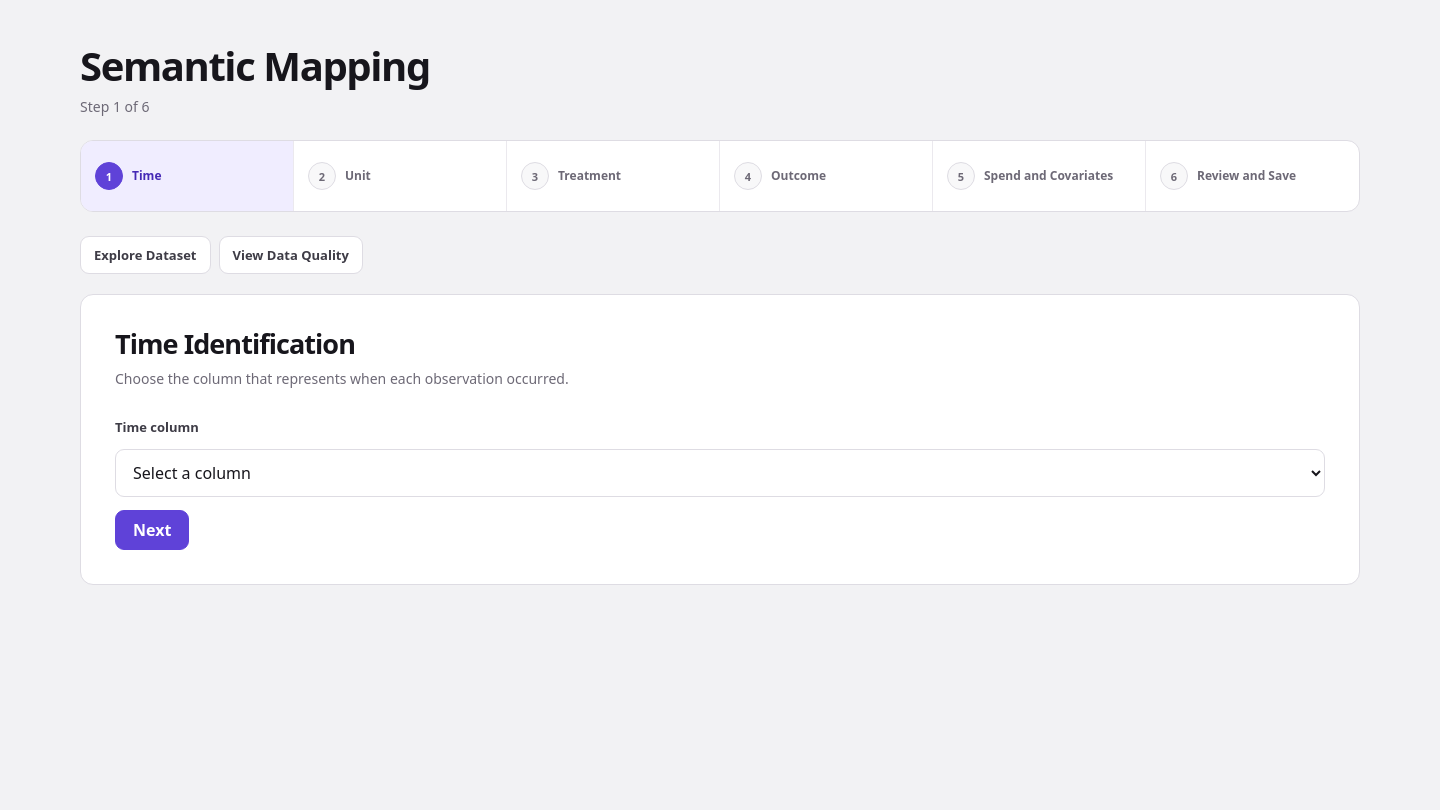
Test: semantic mapping ready dataset experience › does not advance without a valid time-column selection
Check: the text "Step 1 of 6" is shown, box [80,97,150,116]
Click the button "Next": x=152, y=530 [115,510,189,550]
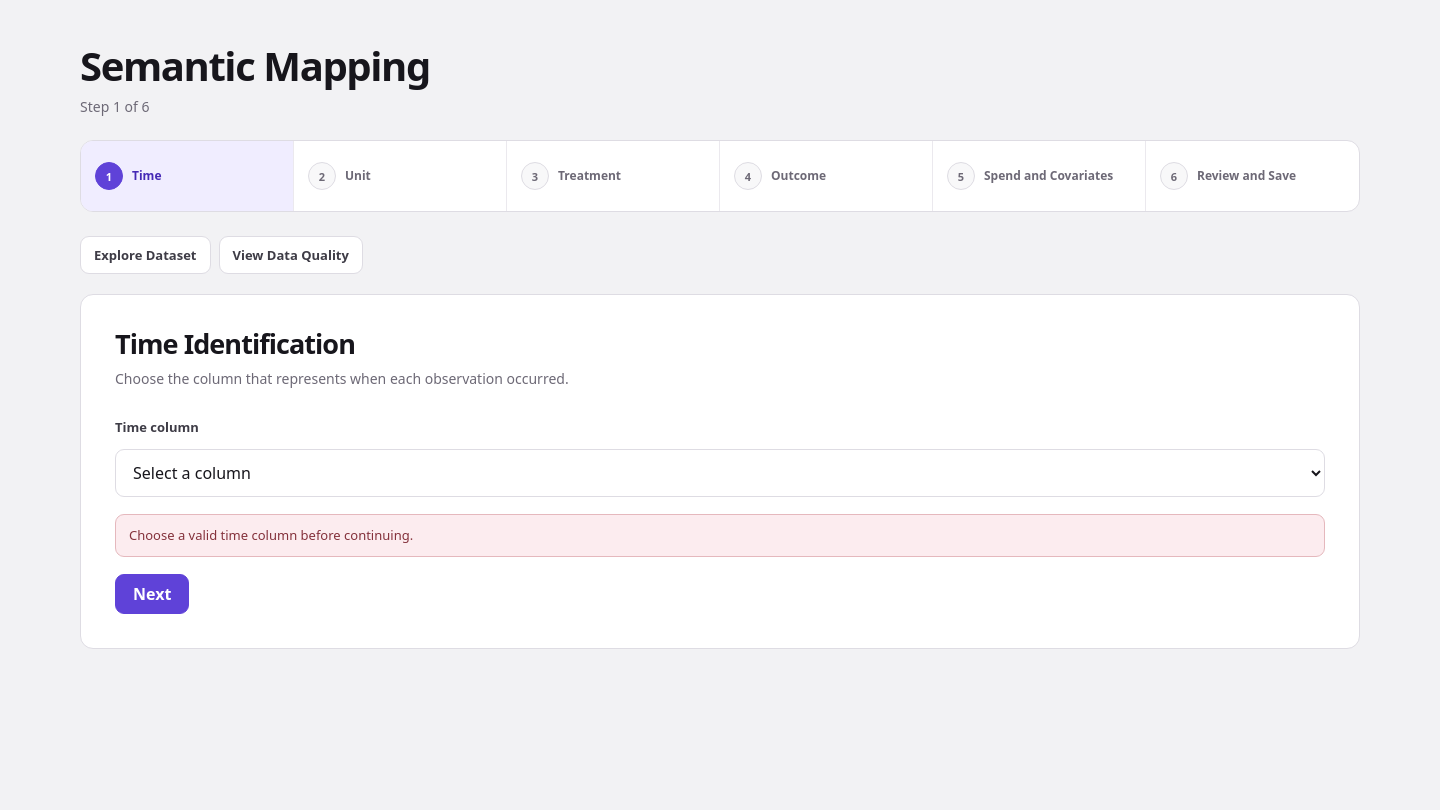
Check: the text "Step 1 of 6" is shown, box [80,97,150,116]
Check: the message reads "Choose a valid time column before continuing.", box [129,526,413,544]
